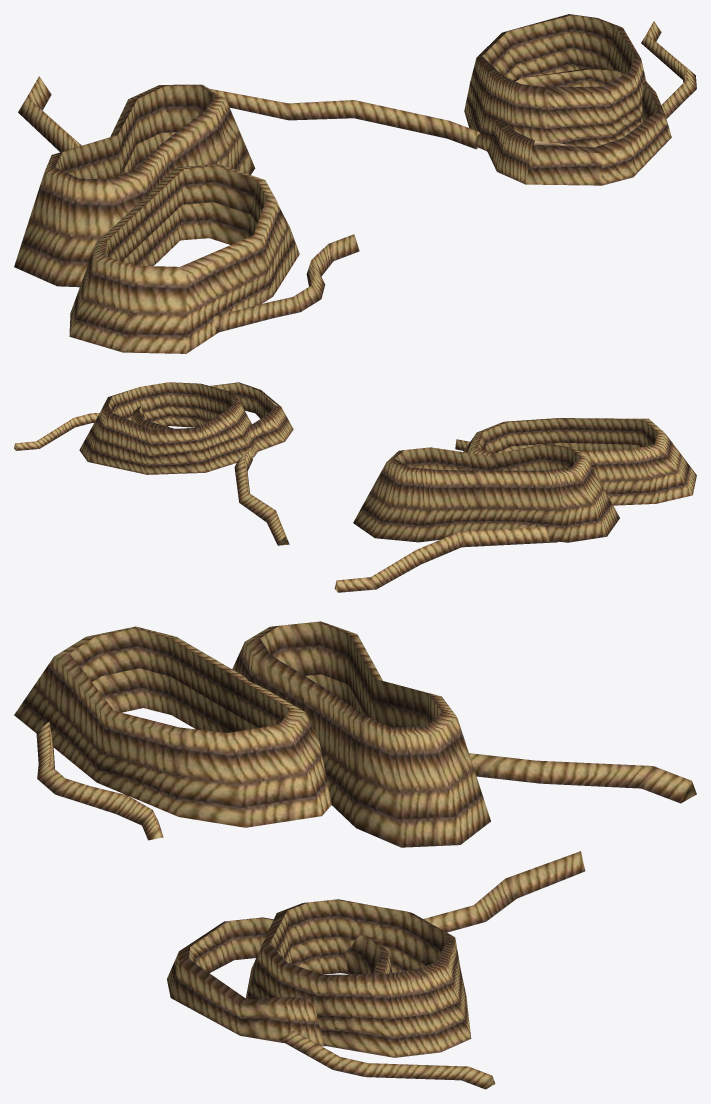
Rendered from szc_object_tanwei22_3a.FBX.
3 views of the same model, one above another, from view 1: azimuth 30°, elevation 25°; view 2: azimuth 150°, elevation 25°; view 3: azimuth 270°, elevation 25° (orthographic). The views are drawn at different scales.
Visible parts, largest first — view 1: szc_object_tanwei22_3a; view 2: szc_object_tanwei22_3a; view 3: szc_object_tanwei22_3a.
Part boxes in pixels (box(x1,y1,x2,y2)): szc_object_tanwei22_3a: box(14, 14, 696, 353); szc_object_tanwei22_3a: box(14, 382, 696, 592); szc_object_tanwei22_3a: box(14, 621, 696, 1089).
Bounding box in the file's own units: 189 × 21.56 × 132.
